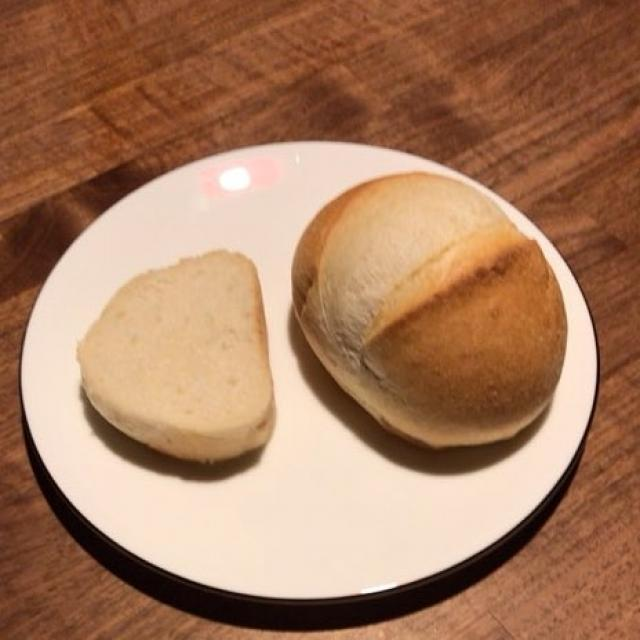bread: (87, 168, 585, 477)
